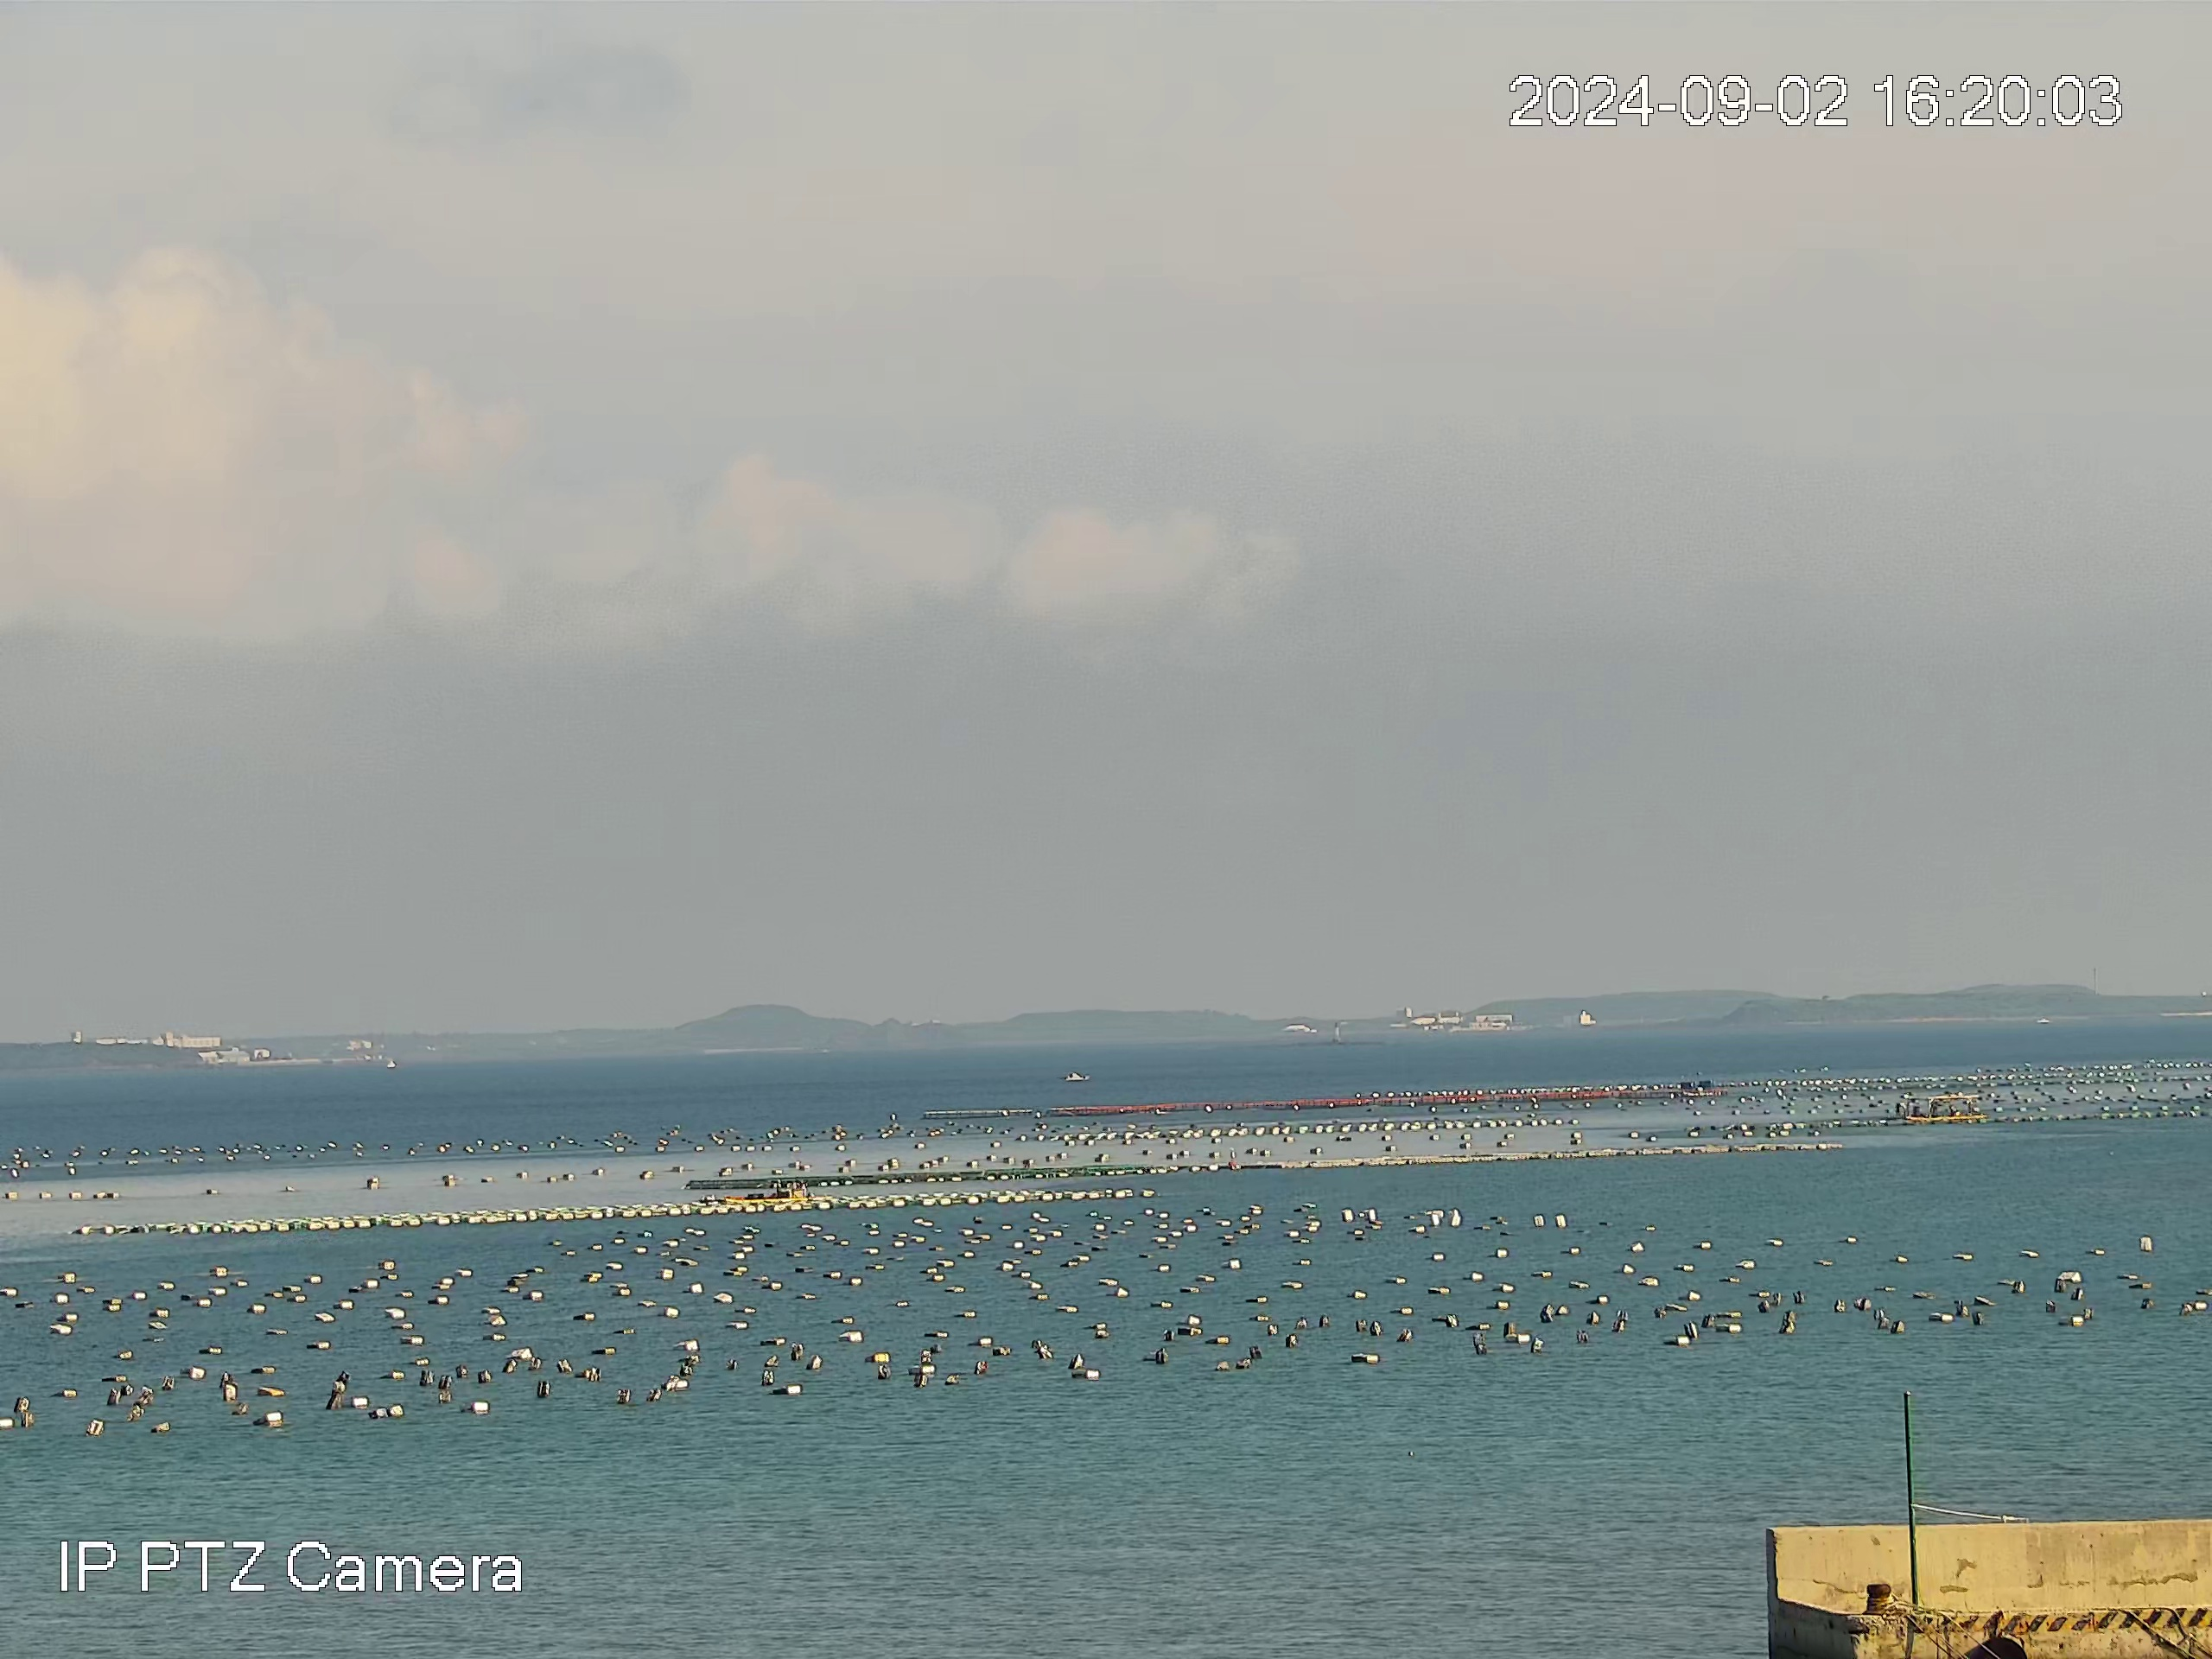boat: (1904, 1094, 1989, 1126), (723, 1180, 810, 1204), (1062, 1070, 1087, 1082)
